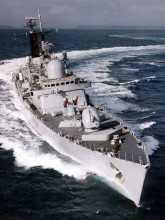warship: (17, 13, 160, 197)
